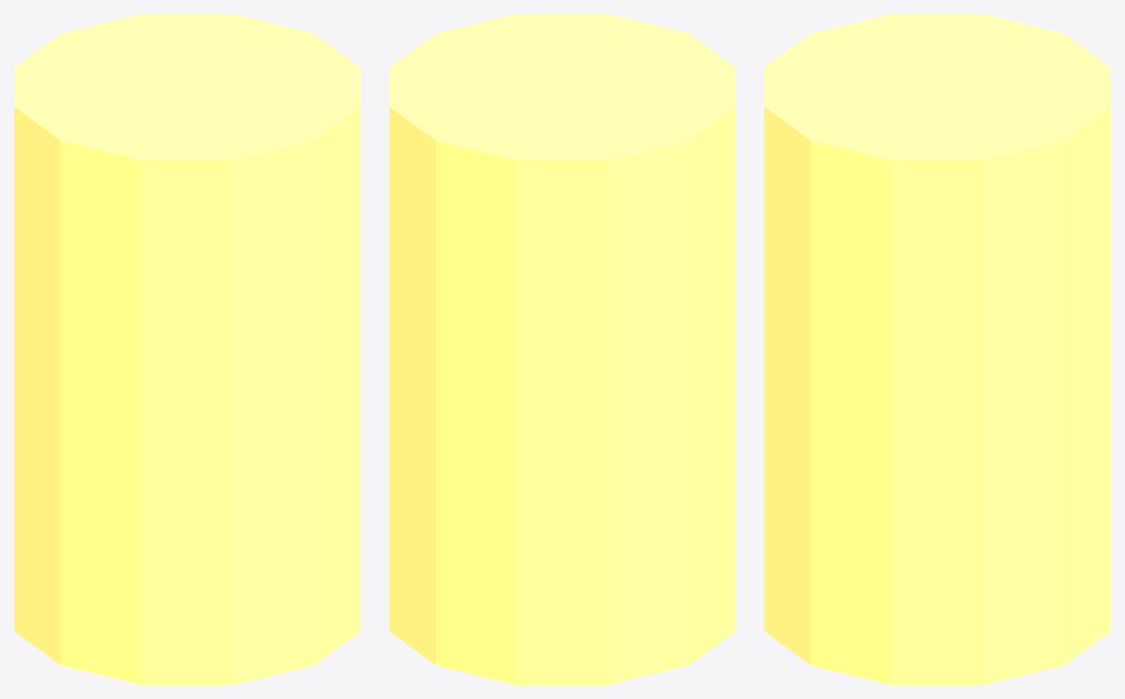
The model's file is Airfield_Beacon_Light.glb.
The picture shows the model from 3 angles, left to right: view 1: azimuth 30°, elevation 25°; view 2: azimuth 150°, elevation 25°; view 3: azimuth 270°, elevation 25°; orthographic projection.
Parts seen in each view (by area): view 1: Airfield_Beacon_Light; view 2: Airfield_Beacon_Light; view 3: Airfield_Beacon_Light.
Boxes of the visible parts, box(x1,y1,x2,y2) form: Airfield_Beacon_Light: box(14, 14, 360, 684); Airfield_Beacon_Light: box(389, 14, 735, 684); Airfield_Beacon_Light: box(764, 14, 1110, 684).
Bounding box in the file's own units: 0.2511 × 0.42 × 0.2511.
